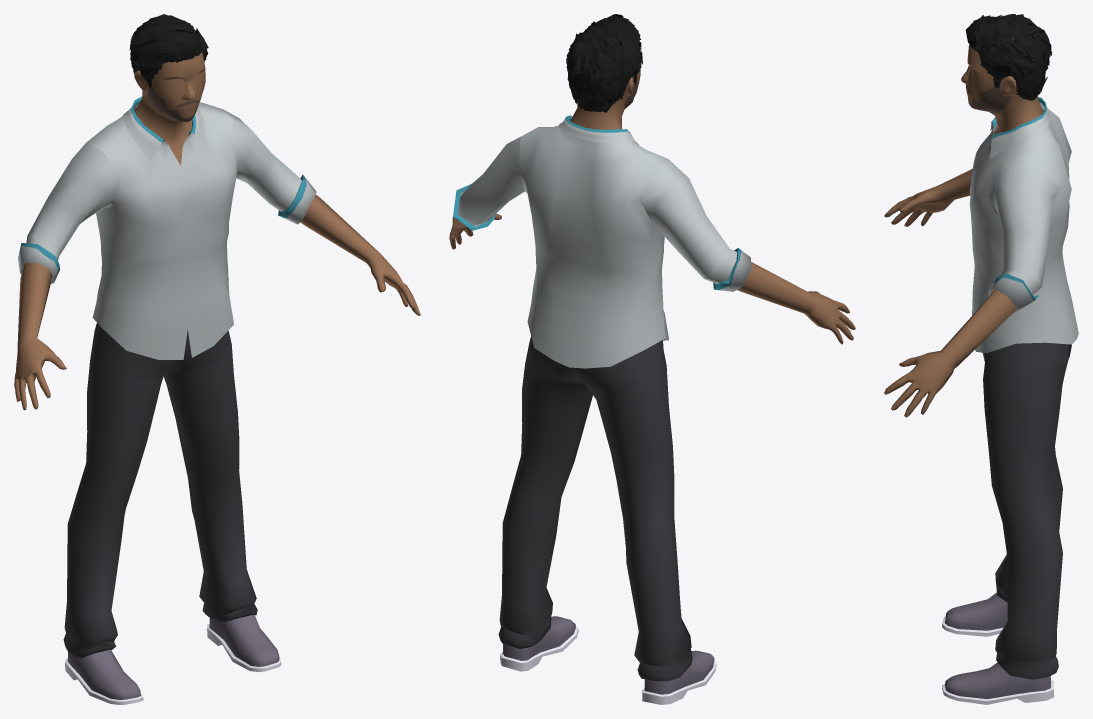
3 views of the same model, side by side, from view 1: azimuth 30°, elevation 25°; view 2: azimuth 150°, elevation 25°; view 3: azimuth 270°, elevation 25° (orthographic).
Parts seen in each view (by area): view 1: shirt, pants, hands, head, hair01; view 2: shirt, pants, hair01, hands, head; view 3: pants, shirt, hands, hair01, head.
Part boxes in pixels (x1,y1,x2,y2): shirt: (18,96,316,359); pants: (63,323,281,704); hands: (14,194,420,410); head: (134,52,205,165); hair01: (129,14,208,87); shirt: (453,115,751,368); pants: (498,336,716,704); hair01: (566,14,642,112); hands: (449,213,855,344); head: (570,31,640,129); pants: (942,342,1071,704); shirt: (969,97,1078,352); hands: (884,169,1016,417); hair01: (965,14,1052,100); head: (961,35,1044,154).
Bounding box in the file's own units: 2.33 × 3.64 × 0.9974.
1 material, 1 textured.
